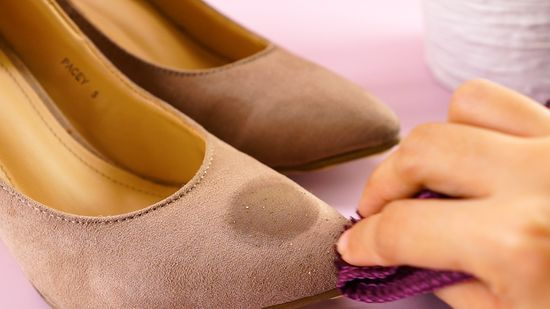gamuza: (1, 39, 401, 309)
